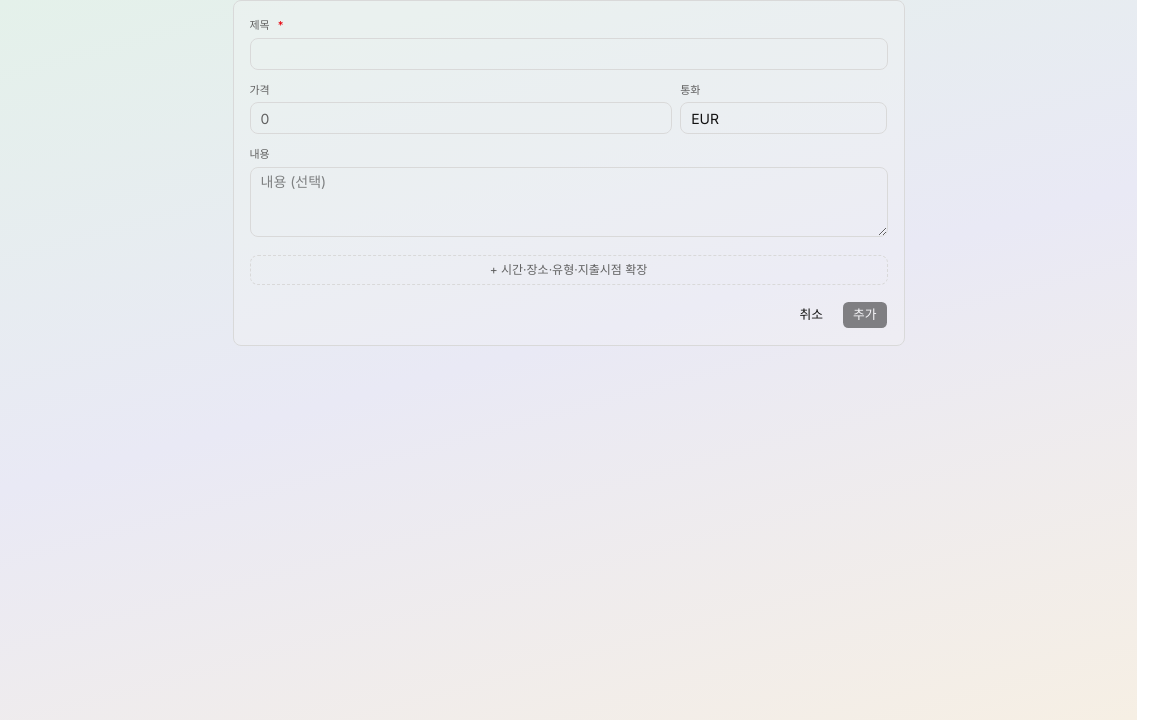
Test: ActivityForm — 종일 토글 › 종일 체크 시 시각 입력이 사라진다
// spec 061 — 생성은 간소 모드. 확장해야 시간·종일 노출.
Click the button "+ 시간·장소·유형·지출시점 확장": (568, 270) [250,254,888,284]
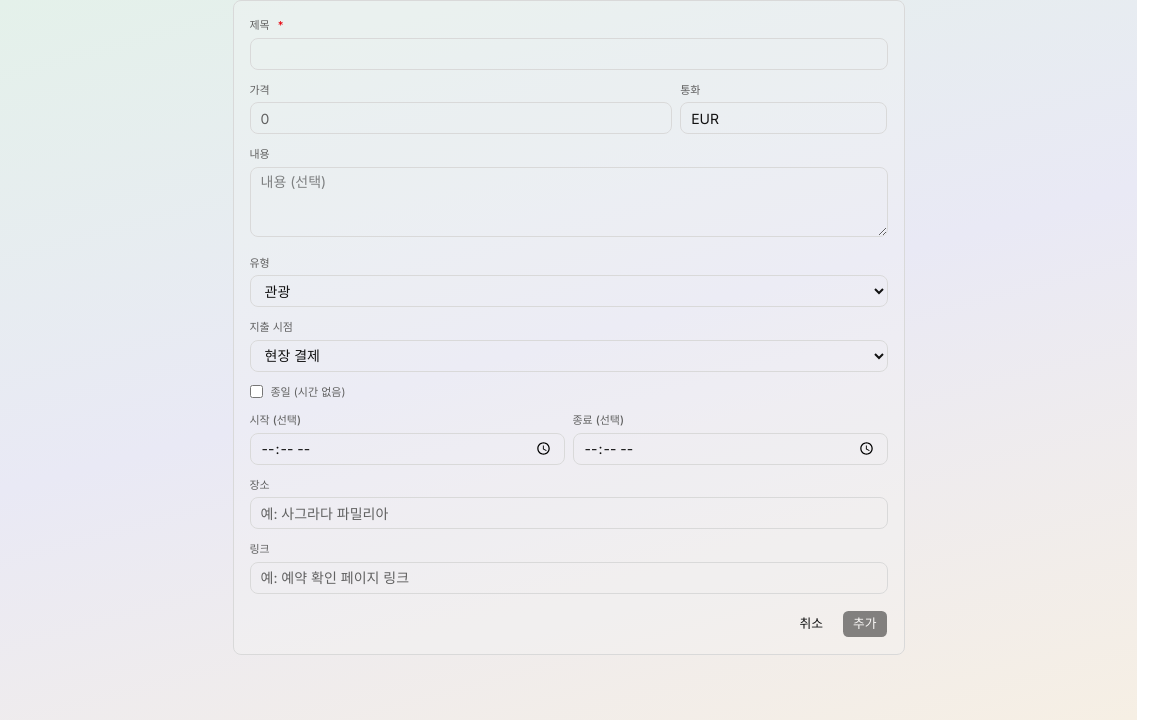
Expected: the time field labelled "시작 (선택)" is shown, [250,432,564,464]
Click the checkbox labelled "종일 (시간 없음)": (256, 392) [250,385,262,398]
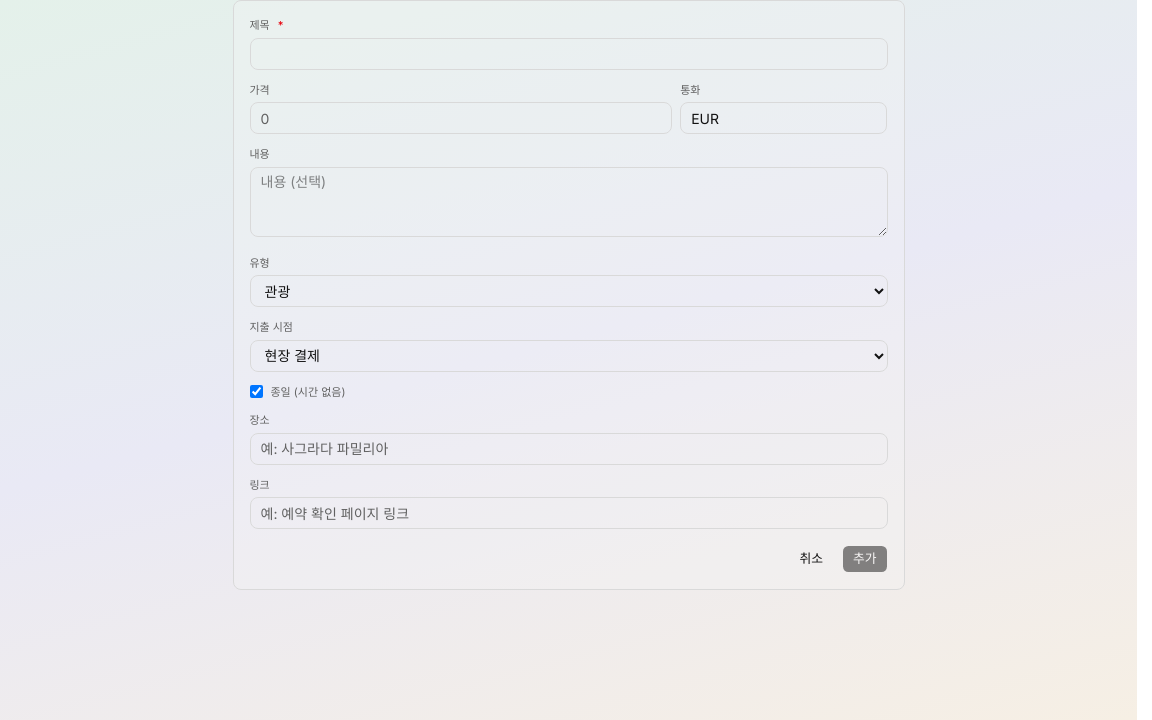
Expected: the label labelled "시작" is gone
Expected: the label labelled "종료" is gone
